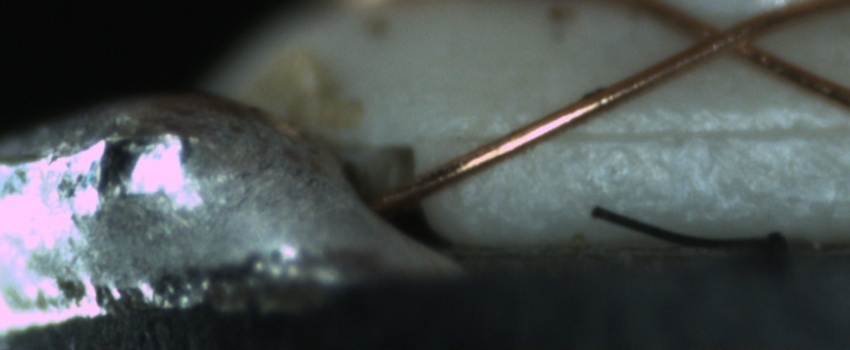CL: (676, 6, 775, 67)
DL: (464, 99, 849, 171)
